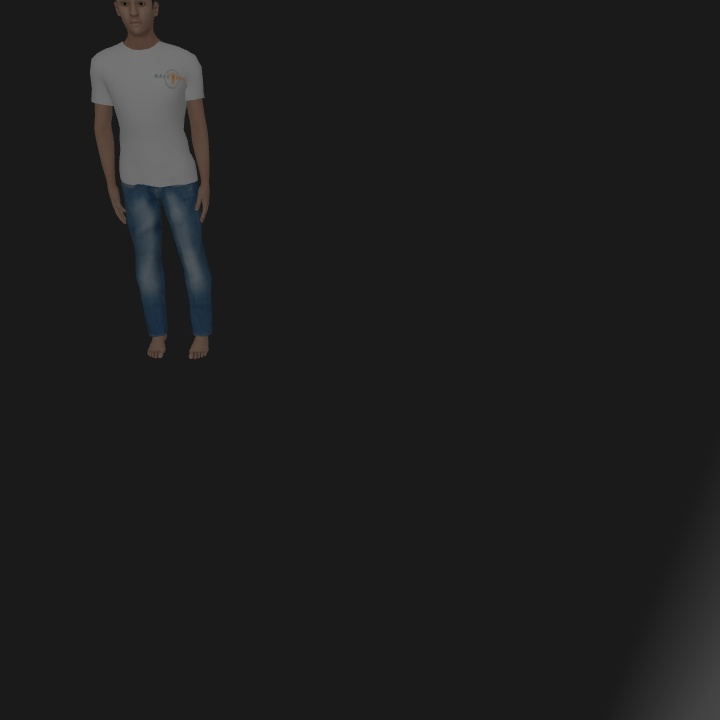victim: (92, 1, 212, 362)
